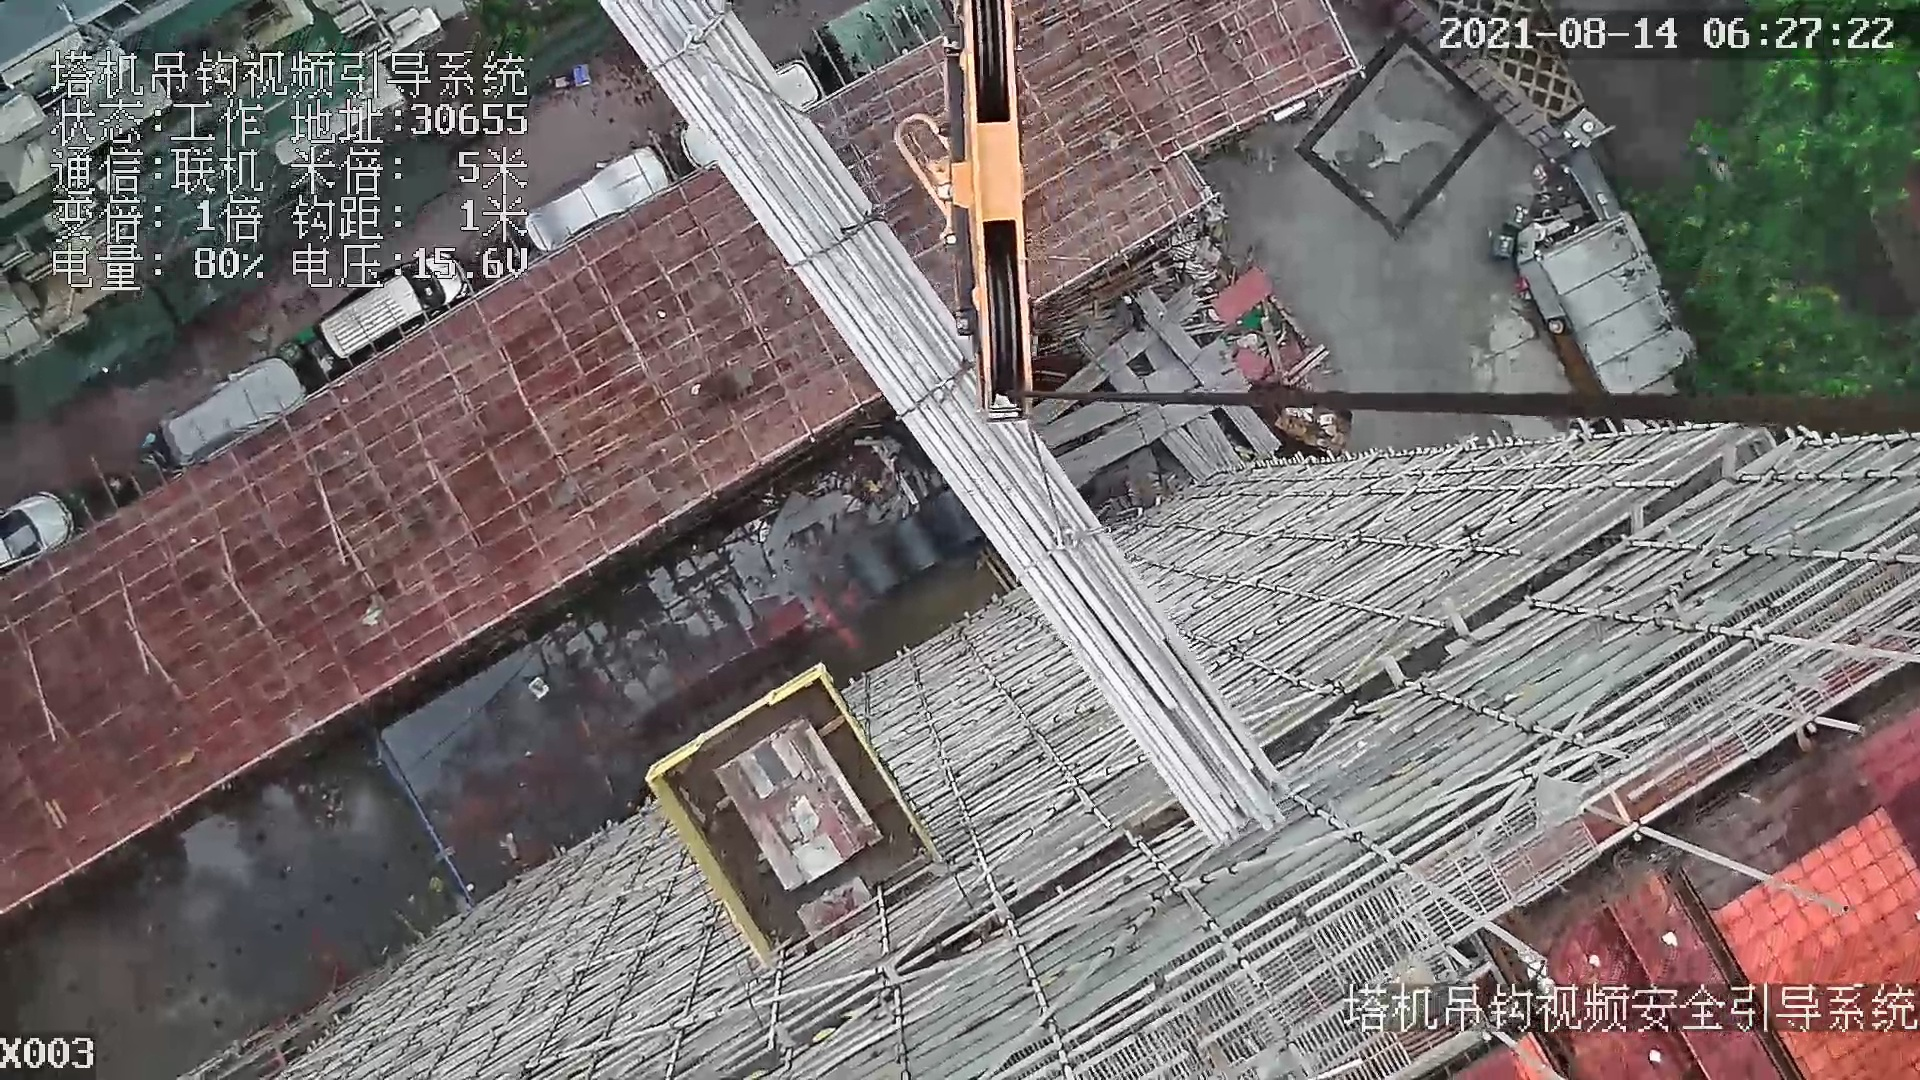hook: (945, 1, 1040, 427)
